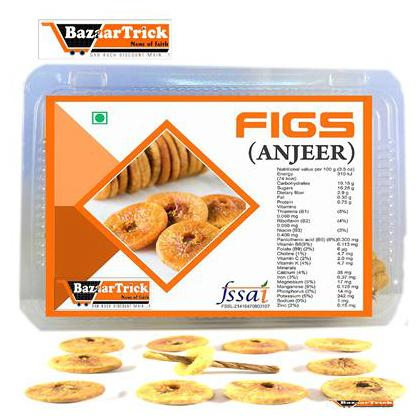fssai: (216, 279, 271, 303)
